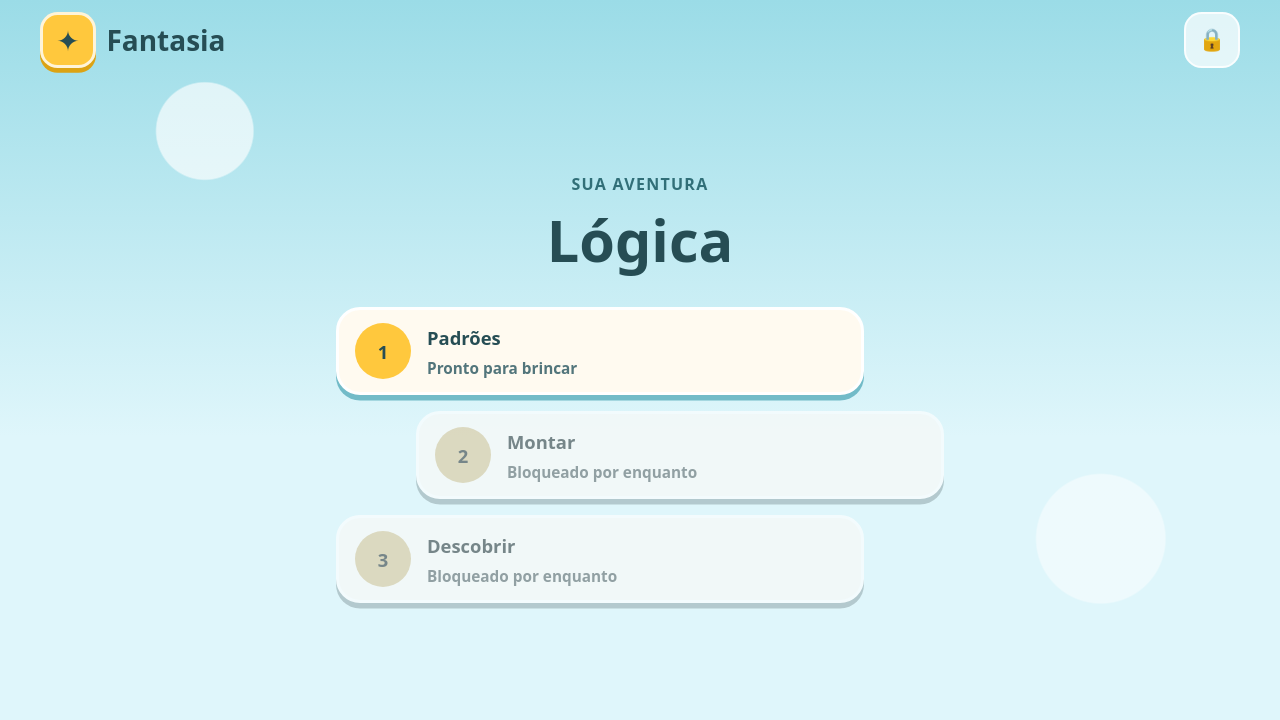
Test: FantasiaApp › abre o resumo somente após o gesto adulto protegido
The width and height of the screenshot is (1280, 720).
Click the button named "Abrir acesso do responsável": {"x": 1212, "y": 40} [1184,12,1240,68]
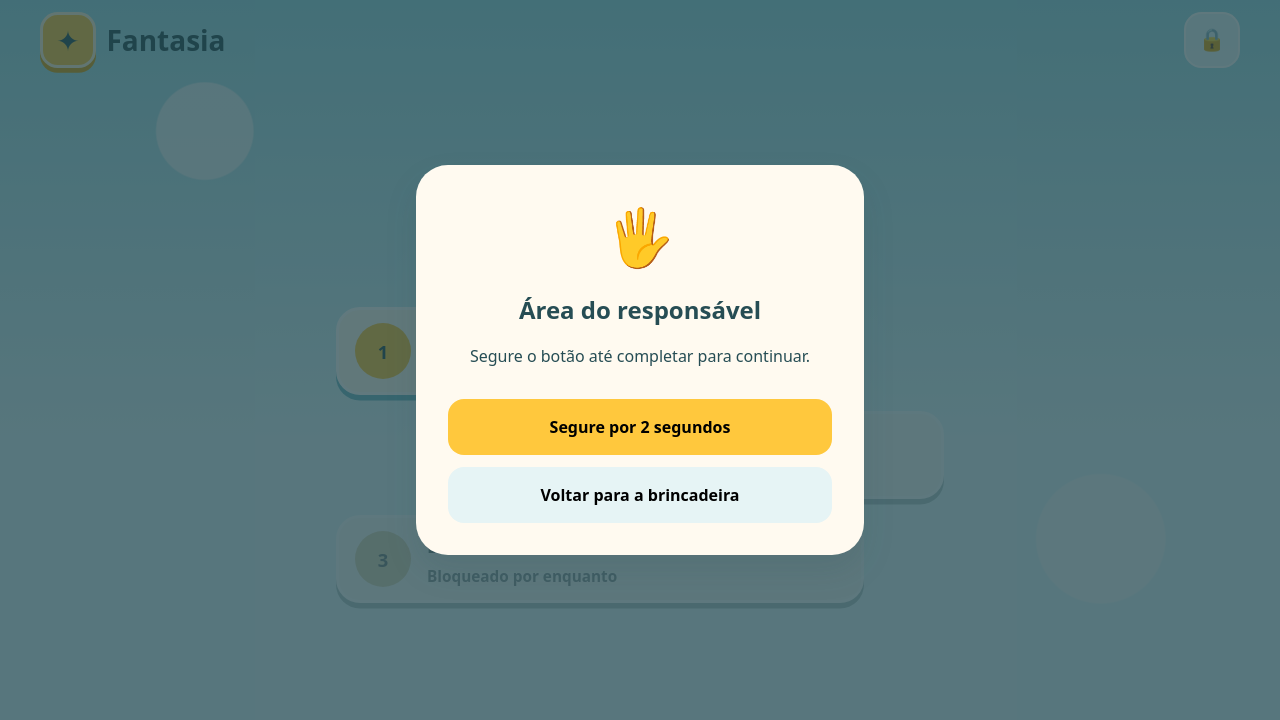
Press the mouse on the button "Segure por 2 segundos": {"x": 640, "y": 427} [448,399,832,455]
Wait 2000 ms
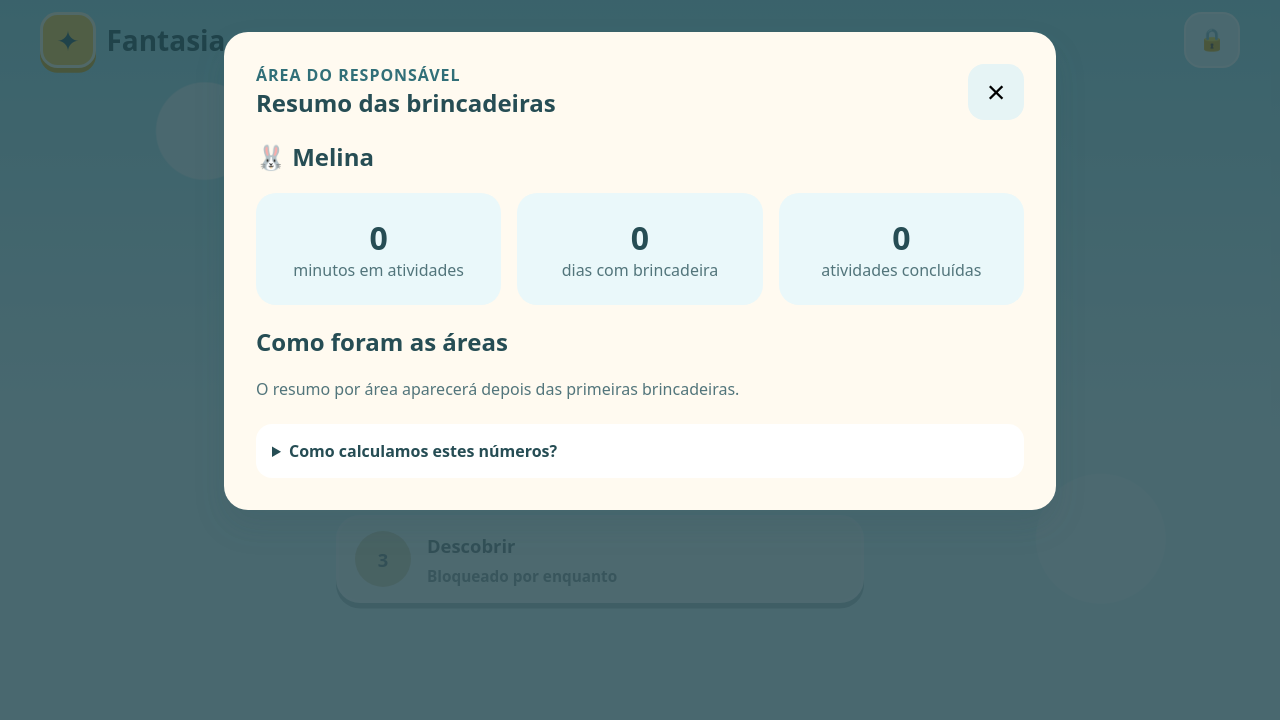
Check: the heading "Resumo das brincadeiras" is shown, box [256,86,556,119]
